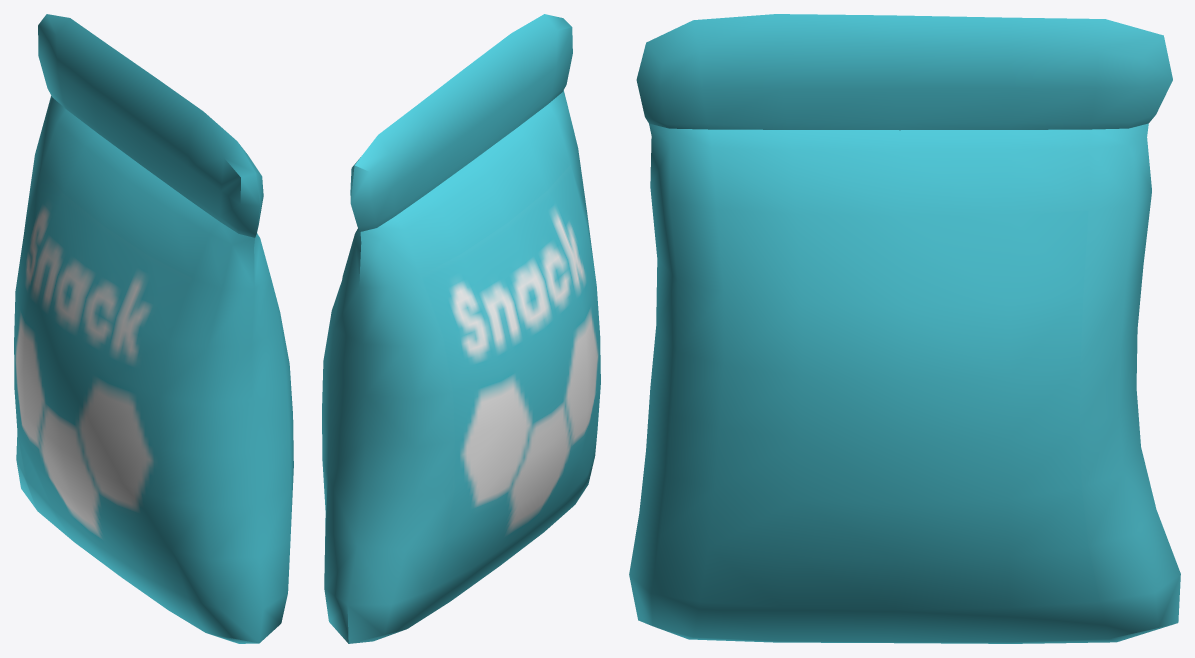
Rendered from Snack06.fbx.
The picture shows the model from 3 angles, left to right: view 1: azimuth 30°, elevation 25°; view 2: azimuth 150°, elevation 25°; view 3: azimuth 270°, elevation 25°; orthographic projection. The views are drawn at different scales.
Visible parts, largest first — view 1: Snack06; view 2: Snack06; view 3: Snack06.
Part boxes in pixels (box(x1,y1,x2,y2)): Snack06: box(14, 14, 293, 643); Snack06: box(322, 14, 600, 643); Snack06: box(629, 14, 1180, 643).
Size of the model in its own units: 0.0539 by 0.1119 by 0.1409.
